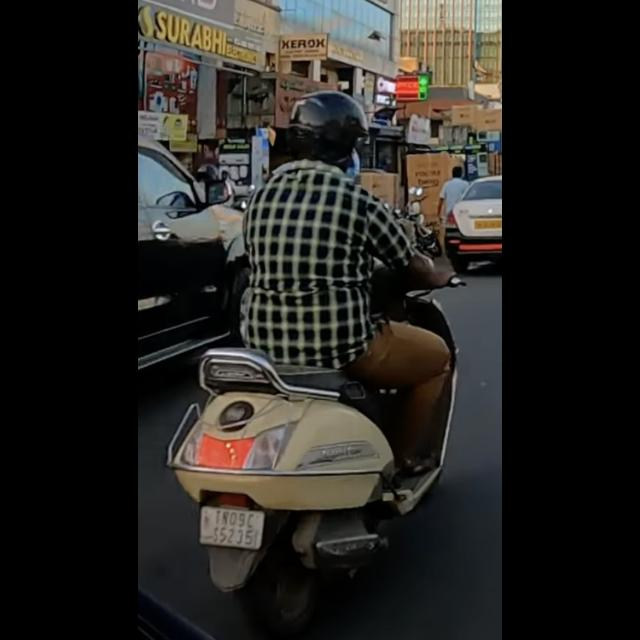with helmet: (286, 91, 369, 167)
